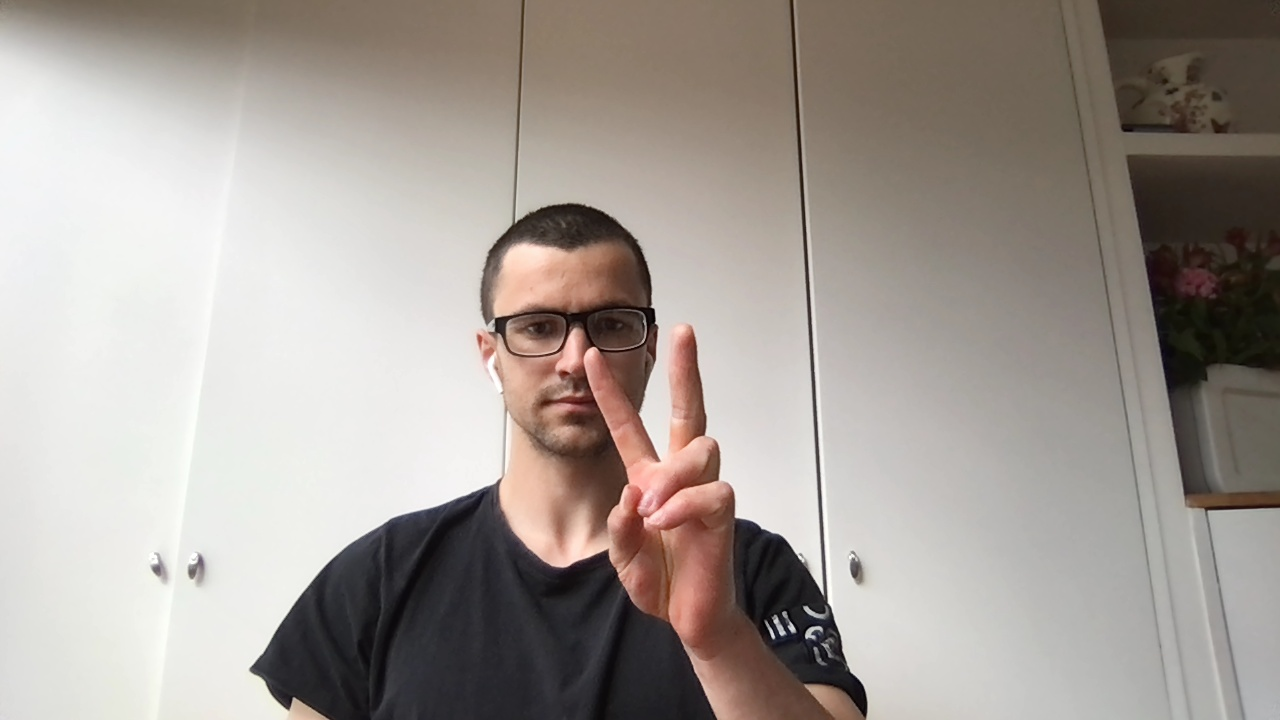peace: (584, 325, 736, 651)
